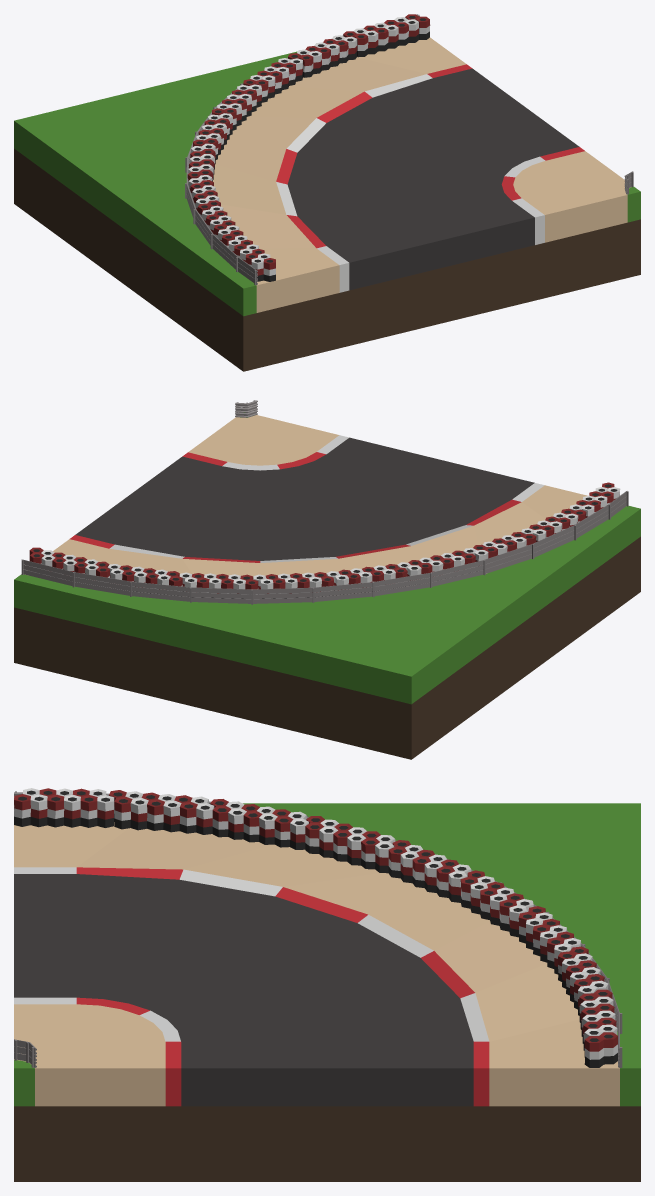
The model's file is tiles-tile-race-track-sand-curve.glb.
3 views of the same model, one above another, from view 1: azimuth 30°, elevation 25°; view 2: azimuth 150°, elevation 25°; view 3: azimuth 270°, elevation 25° (orthographic). The views are drawn at different scales.
Parts seen in each view (by area): view 1: tile-race-track-sand-curve; view 2: tile-race-track-sand-curve; view 3: tile-race-track-sand-curve.
Boxes of the visible parts, bbox=[...] form: tile-race-track-sand-curve: bbox=[14, 14, 640, 371]; tile-race-track-sand-curve: bbox=[14, 400, 640, 759]; tile-race-track-sand-curve: bbox=[14, 788, 640, 1181].
Bounding box in the file's own units: 30.01 × 7.32 × 30.
